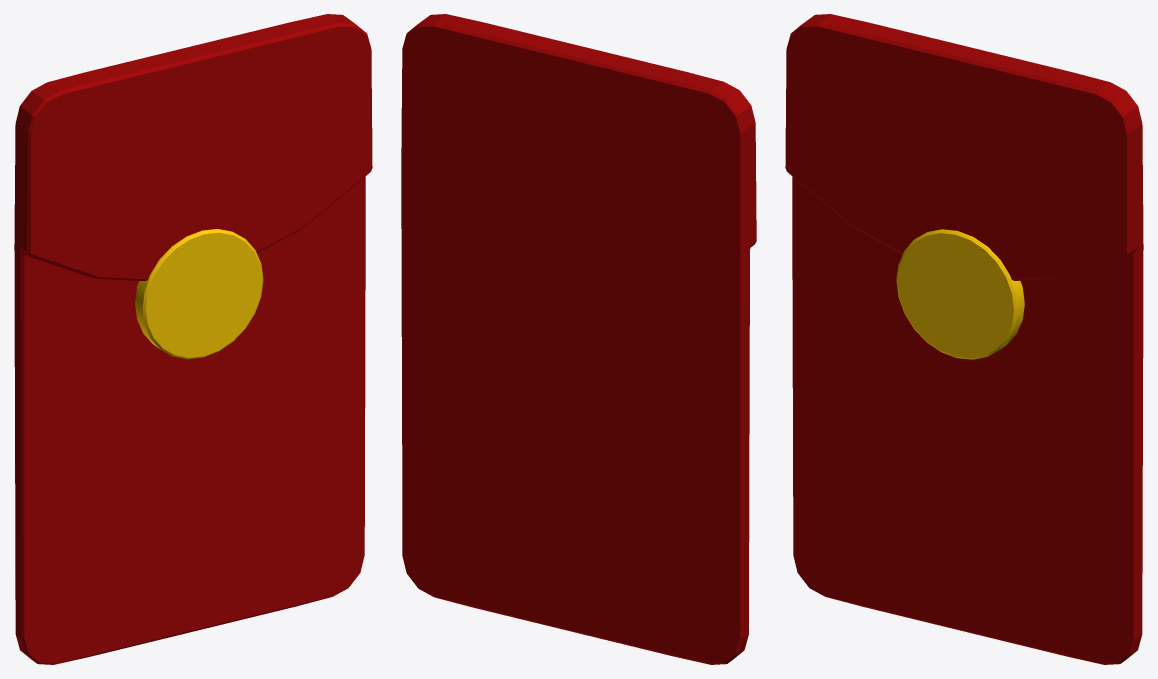
3 views of the same model, side by side, from view 1: azimuth 30°, elevation 25°; view 2: azimuth 150°, elevation 25°; view 3: azimuth 330°, elevation 25° (orthographic).
Visible parts, largest first — view 1: 圆环; view 2: 圆环; view 3: 圆环.
Part boxes in pixels (x1,y1,x2,y2): 圆环: (14,14,372,664); 圆环: (401,14,756,664); 圆环: (785,14,1143,664).
Bounding box in the file's own units: 1.32 × 2.12 × 0.1161.
1 material, 1 textured.
